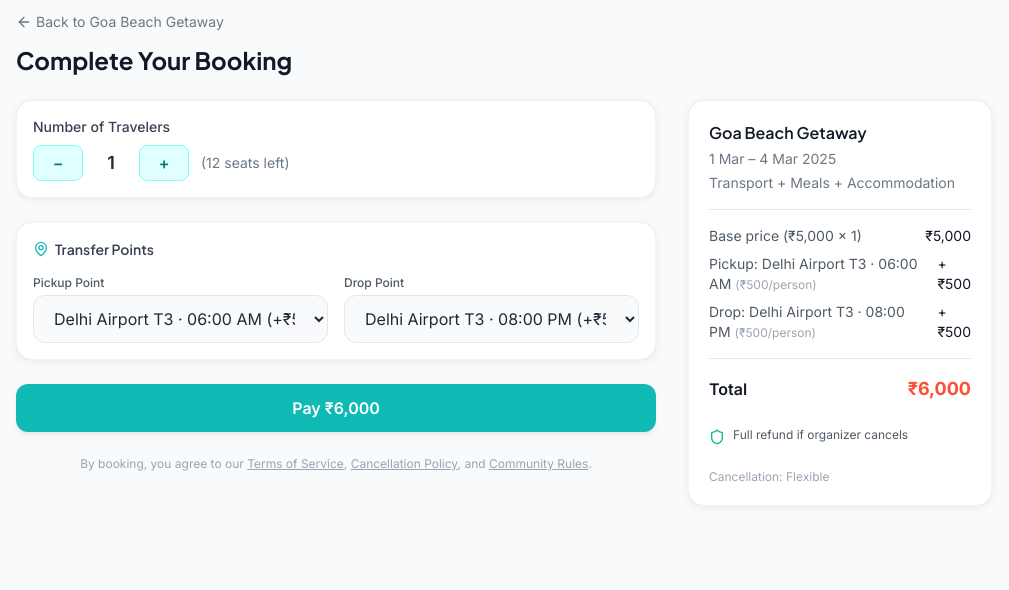
Test: BookingPage › should show the seat-hold countdown after booking creation (visible after Razorpay dismiss)
The width and height of the screenshot is (1009, 590).
Click the button "Pay ₹6,000". click: coordinates (336, 408)
box: [16,384,656,432]
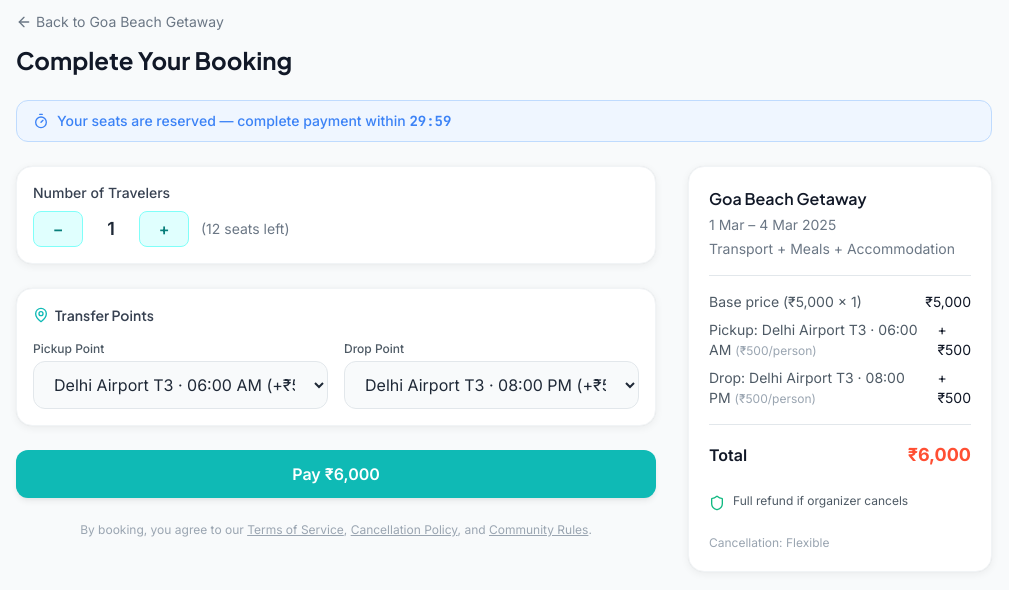
Now the text "Your seats are reserved — complete payment within 29:59" is shown, box [57,111,451,131]
